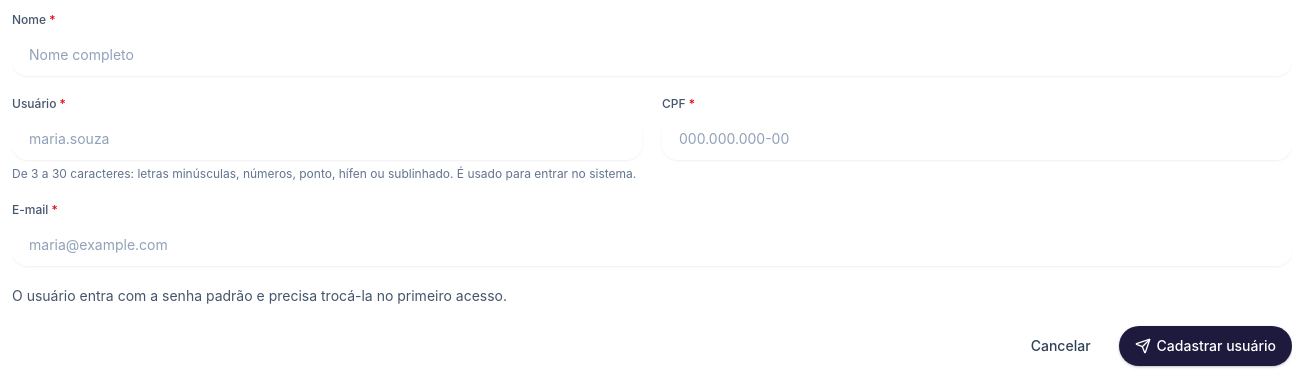
UserForm › mostra o 422 sob cada campo e apaga o erro do campo que é mexido
Submit the form
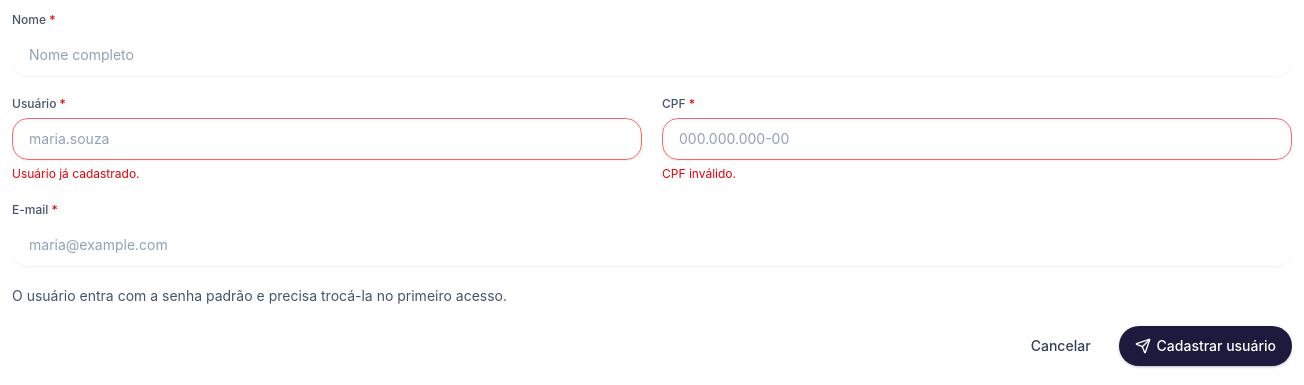
Check: the form shows "Usuário já cadastrado.", box [12, 166, 140, 181]
Check: the form shows "CPF inválido.", box [662, 166, 736, 181]
Type "outro" into the field labelled "Usuário *" at [327, 139], box [12, 118, 642, 160]
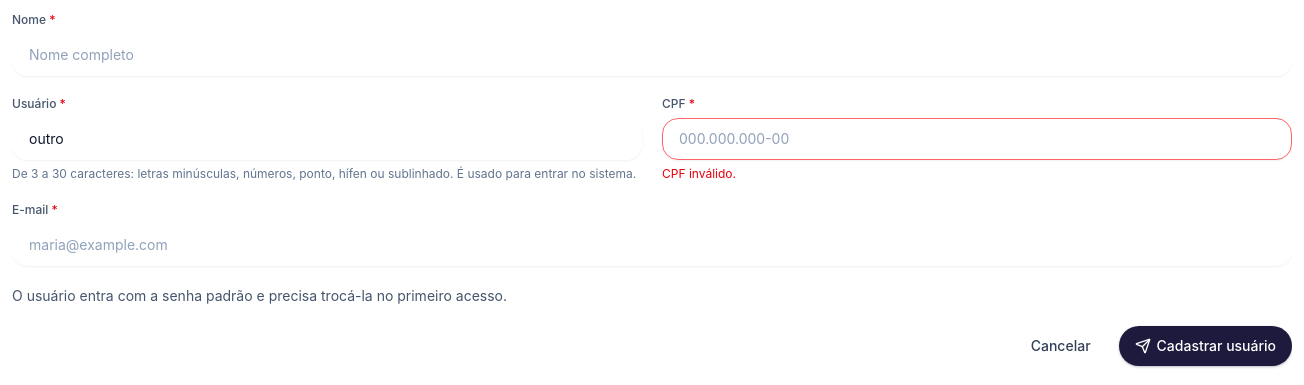
Check: the form shows "CPF inválido.", box [662, 166, 736, 181]
Check: the message "Usuário já cadastrado." no longer shows "Usuário já cadastrado."
